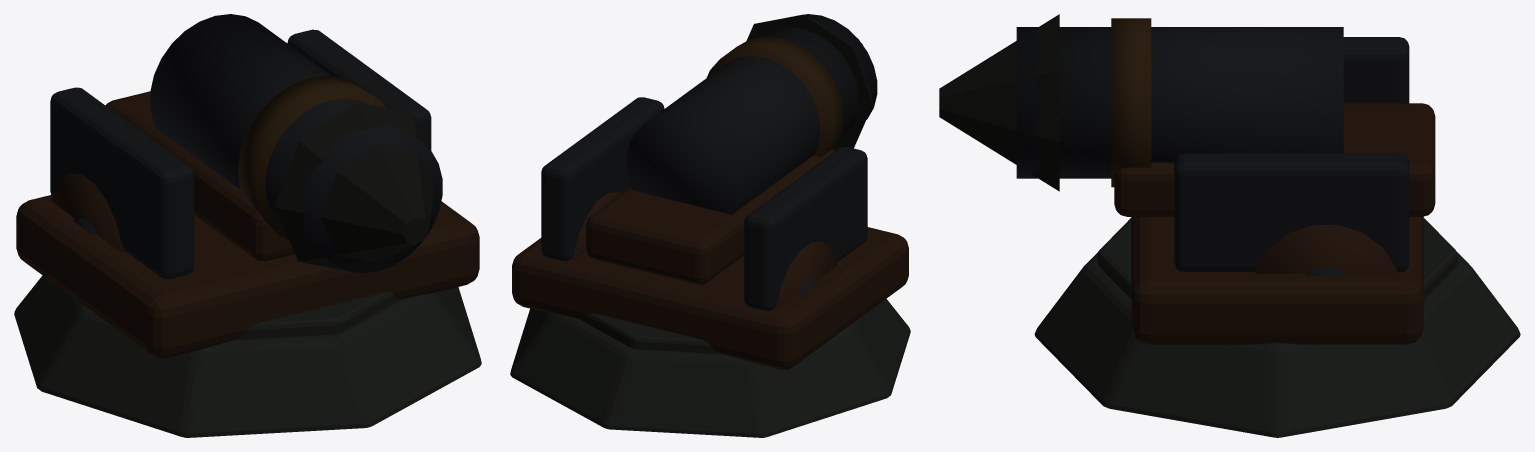
The model's file is TowerDestroy0_pose.obj.
The picture shows the model from 3 angles, left to right: view 1: azimuth 30°, elevation 25°; view 2: azimuth 150°, elevation 25°; view 3: azimuth 270°, elevation 25°; orthographic projection. The views are drawn at different scales.
Parts seen in each view (by area): view 1: rough_stone_foundation_lower_course, reinforced_oak_sled, black_ram_barrel, stone_breaker_head, iron_ram_cheek, oak_ram_bed, bronze_ram_band, iron_ram_cheek.001, rough_stone_foundation_upper_course, heavy_wood_wheel; view 2: rough_stone_foundation_lower_course, reinforced_oak_sled, black_ram_barrel, oak_ram_bed, iron_ram_cheek, iron_ram_cheek.001, bronze_ram_band, stone_breaker_head, rough_stone_foundation_upper_course, heavy_wood_wheel, heavy_wood_wheel.001; view 3: rough_stone_foundation_lower_course, black_ram_barrel, reinforced_oak_sled, iron_ram_cheek.001, stone_breaker_head, oak_ram_bed, bronze_ram_band, heavy_wood_wheel.001, iron_ram_cheek, rough_stone_foundation_upper_course.
Boxes of the visible parts, x1,y1,x2,y2 form: rough_stone_foundation_lower_course: (14,275,481,437); reinforced_oak_sled: (16,195,479,358); black_ram_barrel: (150,14,442,273); stone_breaker_head: (275,102,434,272); iron_ram_cheek: (50,87,194,279); oak_ram_bed: (105,91,294,261); bronze_ram_band: (237,75,386,240); iron_ram_cheek.001: (287,29,431,150); rough_stone_foundation_upper_course: (235,292,400,339); heavy_wood_wheel: (51,173,125,252); rough_stone_foundation_lower_course: (510,299,910,437); reinforced_oak_sled: (512,227,908,369); black_ram_barrel: (626,14,877,214); oak_ram_bed: (586,149,834,284); iron_ram_cheek: (744,146,867,310); iron_ram_cheek.001: (541,97,664,261); bronze_ram_band: (706,36,843,157); stone_breaker_head: (746,14,872,150); rough_stone_foundation_upper_course: (579,313,720,353); heavy_wood_wheel: (773,241,837,309); heavy_wood_wheel.001: (570,192,620,260); rough_stone_foundation_lower_course: (1034,251,1520,437); black_ram_barrel: (1016,27,1343,178); reinforced_oak_sled: (1131,216,1423,344); iron_ram_cheek.001: (1174,153,1409,271); stone_breaker_head: (939,14,1059,191); oak_ram_bed: (1114,103,1435,216); bronze_ram_band: (1111,18,1151,187); heavy_wood_wheel.001: (1255,225,1397,273); iron_ram_cheek: (1343,37,1409,103); rough_stone_foundation_upper_course: (1097,218,1457,299).
Bounding box in the file's own units: 1.7 × 1.23 × 2.03.
